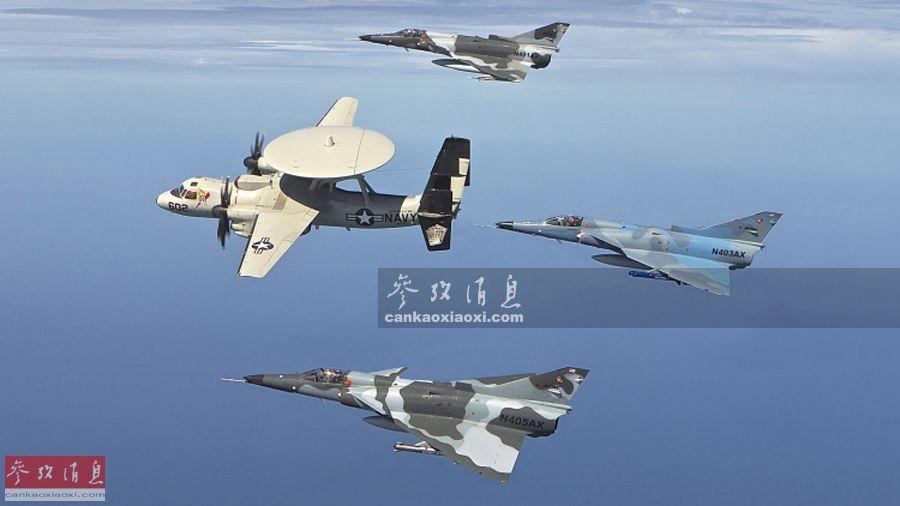airplane: (152, 95, 477, 281), (213, 351, 589, 479), (489, 198, 785, 298), (356, 19, 571, 82)
